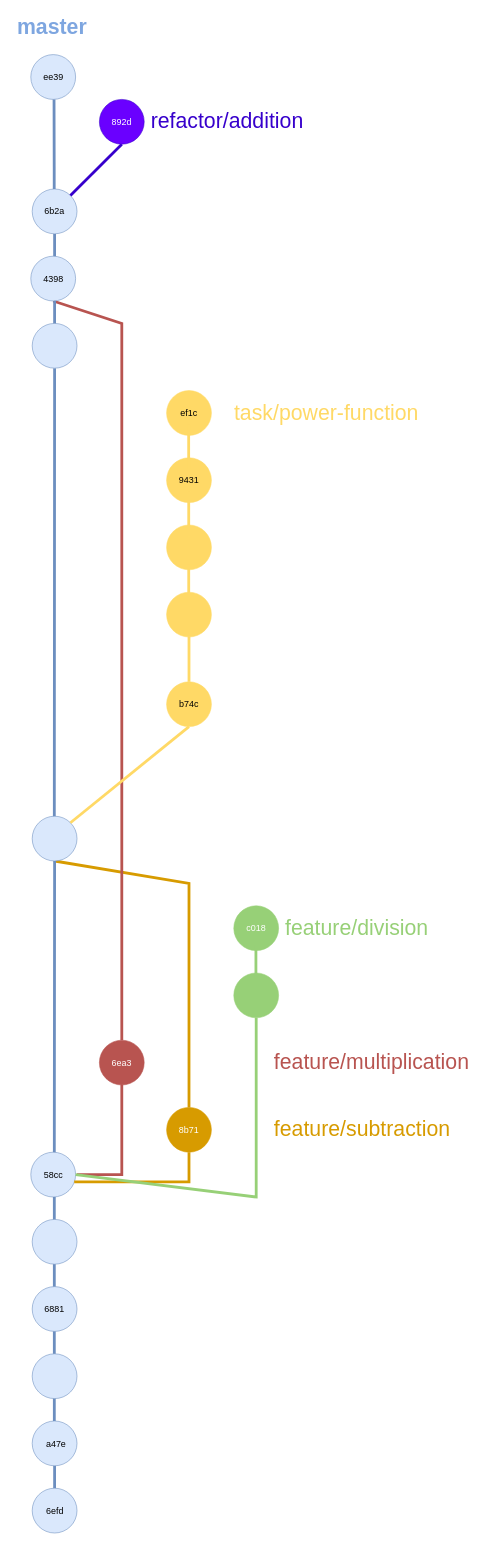
The diagram is 479 pixels wide and 1543 high, and some of its shapes have lost their labels. The shapes that lost their labels are listed below. From the top down, each one's centre as x and y in pixels, then its label:
At (54,345): "6d36".
At (188,547): "5a0b".
At (188,614): "34f1".
At (54,838): "b941".
At (256,995): "c9b1".
At (54,1241): "4b5a".
At (54,1376): "2a34".
